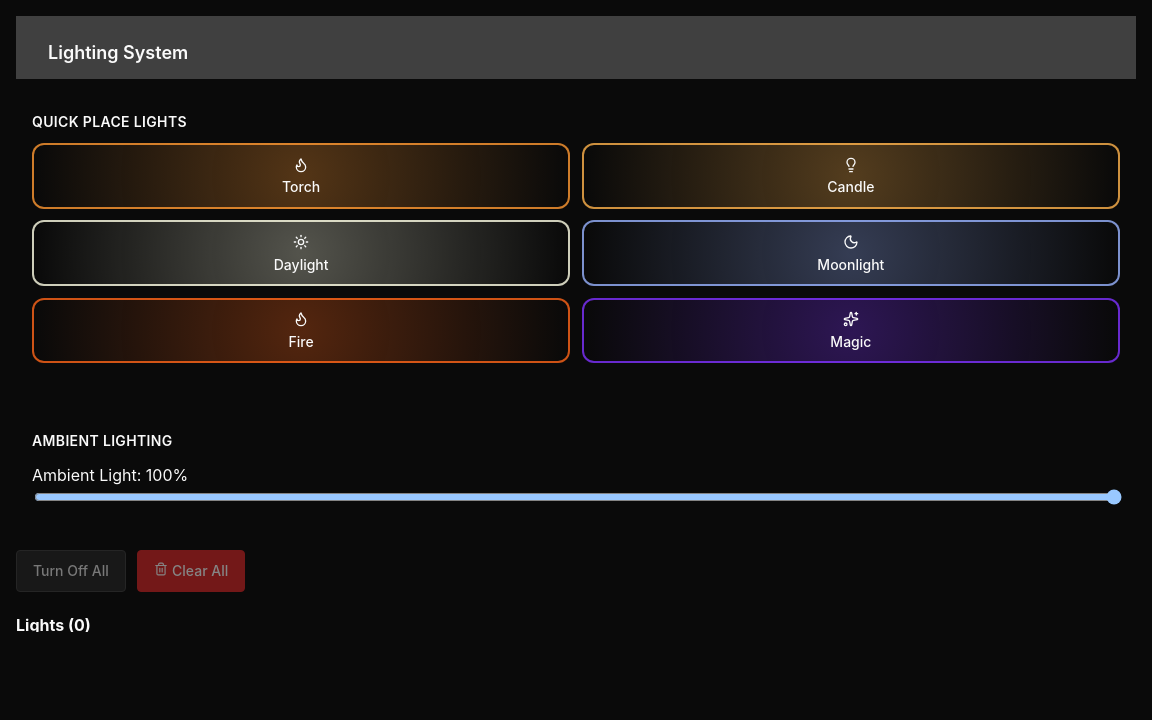
Test: LightingPanel › light placement › shows placement indicator after clicking preset
Click the button "Candle" at (851, 176), box [582,143,1120,209]
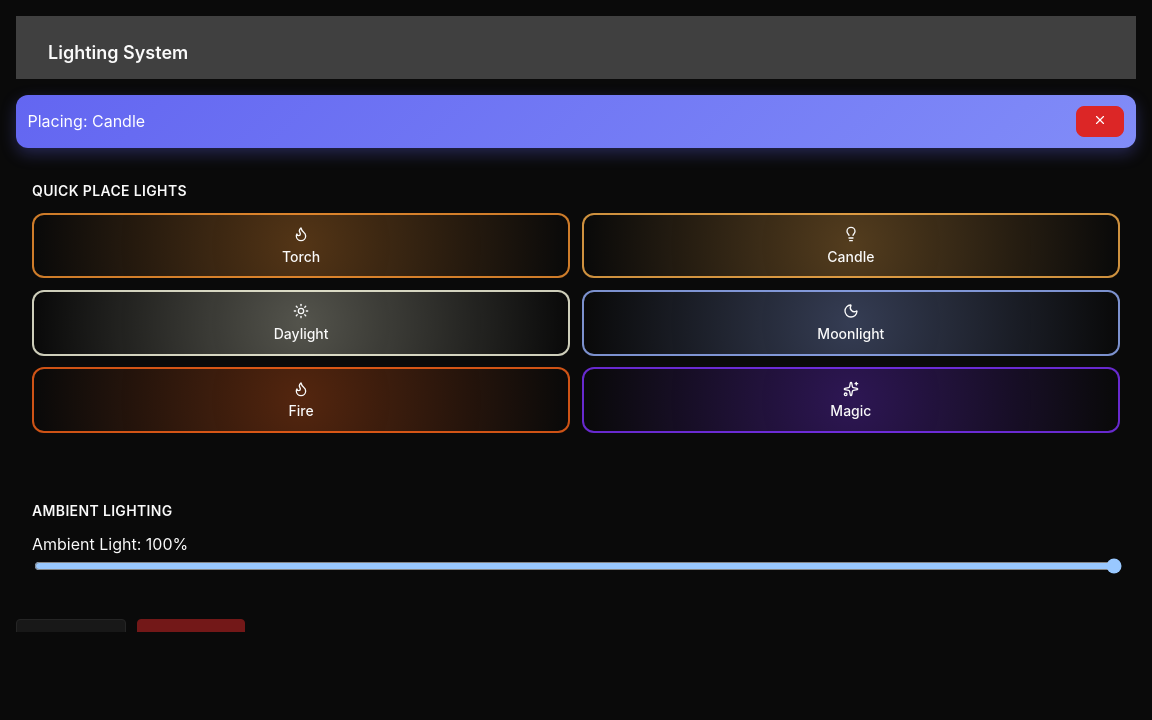
Check: the text "Placing: Candle" is shown, box [28,109,145,133]
